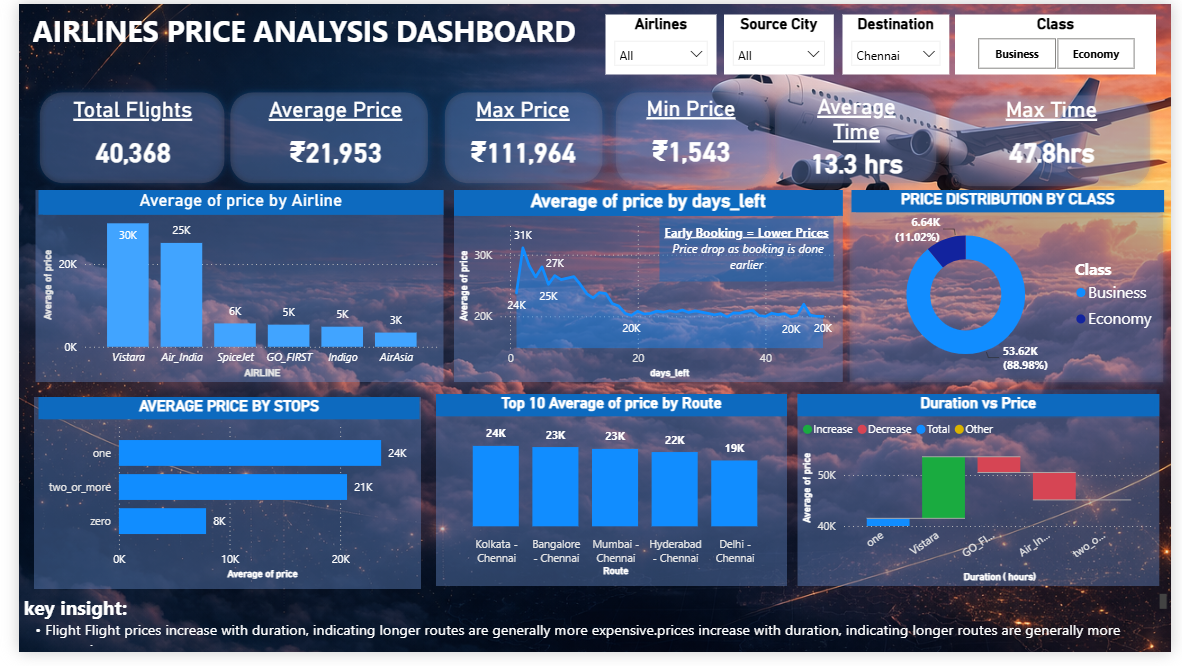

What the dashboard file says about the page in this screenshot:
{"tool":"powerbi","page":{"name":"Page 1","canvas":[1280,720],"ordinal":0},"visuals":[{"type":"textbox","box":[10.2,1.7,618.6,76.3],"z":0},{"type":"shape","box":[14.3,90,221.4,117.1],"z":1000},{"type":"shape","box":[227.1,90,235.7,117.1],"z":2000},{"type":"shape","box":[462.9,90,191.4,117.1],"z":3000},{"type":"shape","box":[654.3,90,187.1,120],"z":4000},{"type":"shape","box":[831.4,90,195.7,117.1],"z":5000},{"type":"card","title":"Total Flights","fields":{"Values":["All measure.Total Flights"]},"box":[34.3,102.9,182.9,92.9],"z":6000},{"type":"card","title":"Average Price ","fields":{"Values":["All measure.average price"]},"box":[257.1,102.9,190,92.9],"z":7000},{"type":"card","title":"Min Price ","fields":{"Values":["All measure.Min Price"]},"box":[651.4,101.4,190,92.9],"z":8000},{"type":"card","title":"Average Time ","fields":{"Values":["All measure.Avg time"]},"box":[852.9,100,154.3,95.7],"z":9000},{"type":"shape","box":[18.3,206.7,453.3,213.3],"z":10000},{"type":"clusteredColumnChart","title":"Average of price by Airline","fields":{"Category":["Clean_Dataset.airline"],"Y":["Avg(Clean_Dataset.price)"]},"box":[21.4,207.1,450,212.9],"z":11000},{"type":"shape","box":[483.3,206.7,431.7,213.3],"z":12000},{"type":"areaChart","fields":{"Category":["Clean_Dataset.days_left"],"Y":["Avg(Clean_Dataset.price)"]},"box":[483.3,206.7,431.7,213.3],"z":13000},{"type":"shape","box":[915.7,207.1,364.3,221.4],"z":14000},{"type":"donutChart","title":"PRICE DISTRIBUTION BY CLASS","fields":{"Category":["Clean_Dataset.class"],"Y":["Avg(Clean_Dataset.price)"]},"box":[924.3,207.1,347.1,212.9],"z":15000},{"type":"textbox","box":[711.7,238.3,193.3,70],"z":16000},{"type":"shape","box":[16.7,436.7,430,213.3],"z":17000},{"type":"clusteredBarChart","title":"AVERAGE PRICE BY STOPS","fields":{"Y":["Avg(Clean_Dataset.price)"],"Category":["Clean_Dataset.stops"]},"box":[21.7,436.7,423.3,206.7],"z":18000},{"type":"shape","box":[463.3,433.3,390,213.3],"z":19000},{"type":"clusteredColumnChart","title":"Top 10 Average of price by Route","fields":{"Category":["Clean_Dataset.Route"],"Y":["Avg(Clean_Dataset.price)"]},"box":[463.3,433.3,390,206.7],"z":20000},{"type":"shape","box":[865,433.3,401.7,213.3],"z":21000},{"type":"textbox","box":[1070.5,427.9,194.1,31.8],"z":22000},{"type":"waterfallChart","title":"Duration vs Price","fields":{"Y":["Avg(Clean_Dataset.price)"],"Category":["Clean_Dataset.stops","Clean_Dataset.airline","Clean_Dataset.class"],"Breakdown":["Clean_Dataset.airline"]},"box":[865,433.3,401.7,213.3],"z":23000},{"type":"shape","box":[1024.3,92.9,240,117.1],"z":24000},{"type":"card","title":"Max Time ","fields":{"Values":["All measure.max time"]},"box":[1070,102.9,154.3,92.9],"z":25000},{"type":"card","title":"Max Price ","fields":{"Values":["All measure.Max Price"]},"box":[482.9,102.9,152.9,91.4],"z":26000},{"type":"textbox","box":[0,643.3,1280,76.7],"z":29000},{"type":"slicer","title":"Airlines","fields":{"Values":["Clean_Dataset.airline"]},"box":[651.7,11.7,123.3,66.7],"z":29001},{"type":"slicer","title":"Source City","fields":{"Values":["Clean_Dataset.source_city"]},"box":[783.3,11.7,121.7,66.7],"z":29002},{"type":"slicer","title":"Destination ","fields":{"Values":["Clean_Dataset.destination_city"]},"box":[915,11.7,118.3,66.7],"z":29003},{"type":"slicer","title":"Class","fields":{"Values":["Clean_Dataset.class"]},"box":[1040,11.7,223.3,66.7],"z":29004}]}

Visuals, with their boxes in screenshot pixels (x1, y1, x2, y2), scaled from the page's 1280x720 canvas onto the 1182x666 screenshot:
textbox: <box>9,2,581,72</box>
shape: <box>13,83,218,192</box>
shape: <box>210,83,427,192</box>
shape: <box>427,83,604,192</box>
shape: <box>604,83,777,194</box>
shape: <box>768,83,948,192</box>
"Total Flights" card: <box>32,95,201,181</box>
"Average Price " card: <box>237,95,413,181</box>
"Min Price " card: <box>602,94,777,180</box>
"Average Time " card: <box>788,92,930,181</box>
shape: <box>17,191,435,388</box>
"Average of price by Airline" clusteredColumnChart: <box>20,192,435,388</box>
shape: <box>446,191,845,388</box>
areaChart - Clean_Dataset.days_left x Avg(Clean_Dataset.price): <box>446,191,845,388</box>
shape: <box>846,192,1181,396</box>
"PRICE DISTRIBUTION BY CLASS" donutChart: <box>854,192,1174,388</box>
textbox: <box>657,220,836,285</box>
shape: <box>15,404,412,601</box>
"AVERAGE PRICE BY STOPS" clusteredBarChart: <box>20,404,411,595</box>
shape: <box>428,401,788,598</box>
"Top 10 Average of price by Route" clusteredColumnChart: <box>428,401,788,592</box>
shape: <box>799,401,1170,598</box>
textbox: <box>989,396,1168,425</box>
"Duration vs Price" waterfallChart: <box>799,401,1170,598</box>
shape: <box>946,86,1168,194</box>
"Max Time " card: <box>988,95,1131,181</box>
"Max Price " card: <box>446,95,587,180</box>
textbox: <box>0,595,1181,665</box>
"Airlines" slicer: <box>602,11,716,73</box>
"Source City" slicer: <box>723,11,836,73</box>
"Destination " slicer: <box>845,11,954,73</box>
"Class" slicer: <box>960,11,1167,73</box>
